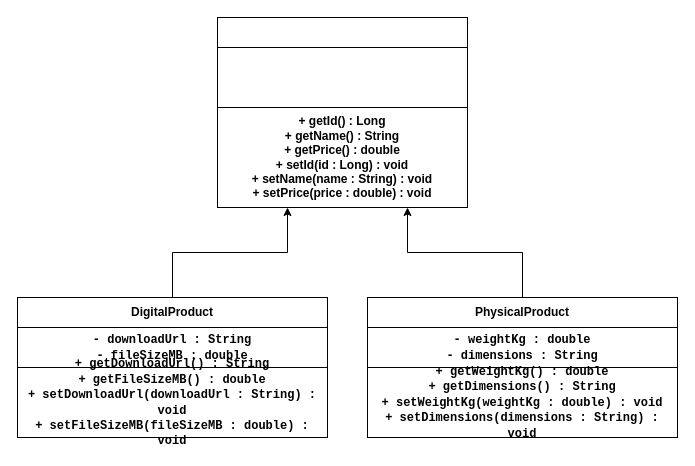
Image size: 695x466. Some labels were removed from this diagram. Here are the shapes that lost their labels. From the top down, the box of each, then its label:
(216, 16, 468, 48): Product
(216, 46, 468, 108): - id : Long - name : String - price : double
